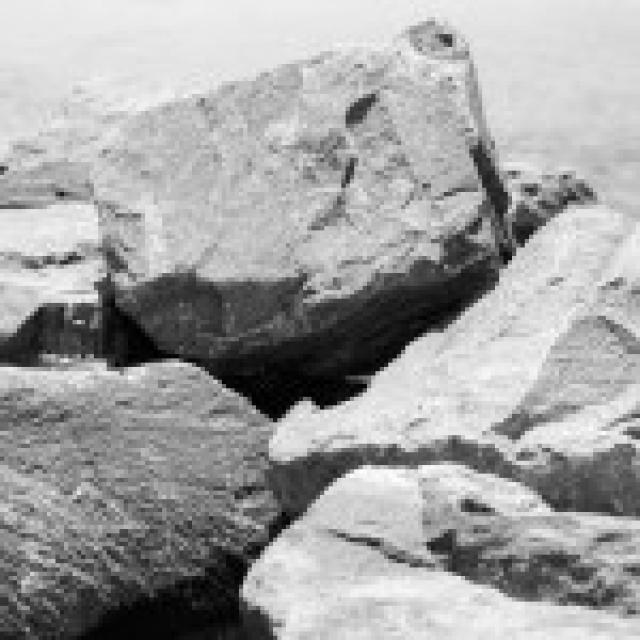Stone: (90, 21, 512, 416), (273, 205, 640, 463), (0, 363, 282, 638), (243, 465, 640, 640), (0, 77, 179, 207), (0, 200, 107, 335)
